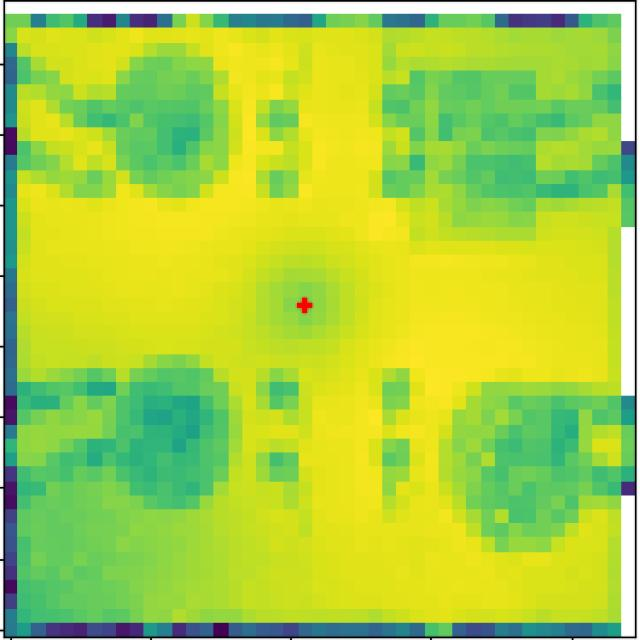Concrete: (105, 42, 244, 222)
Glass: (446, 356, 618, 581)
Metal: (110, 324, 248, 546)
Wood: (366, 42, 546, 262)
